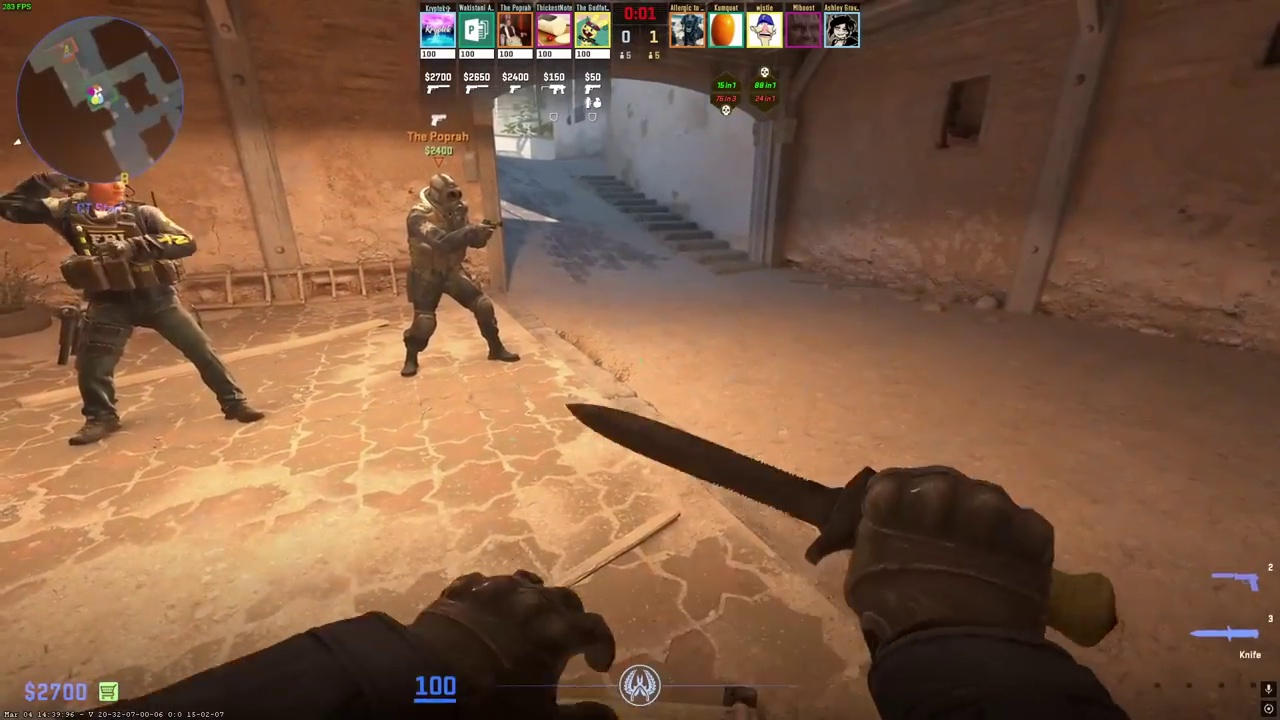CT: (4, 176, 255, 446), (400, 172, 513, 377)
